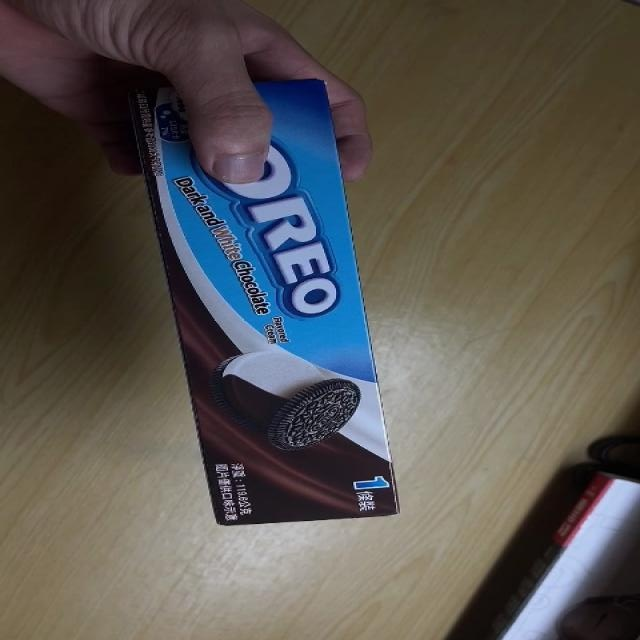Oreo: (144, 79, 398, 529)
